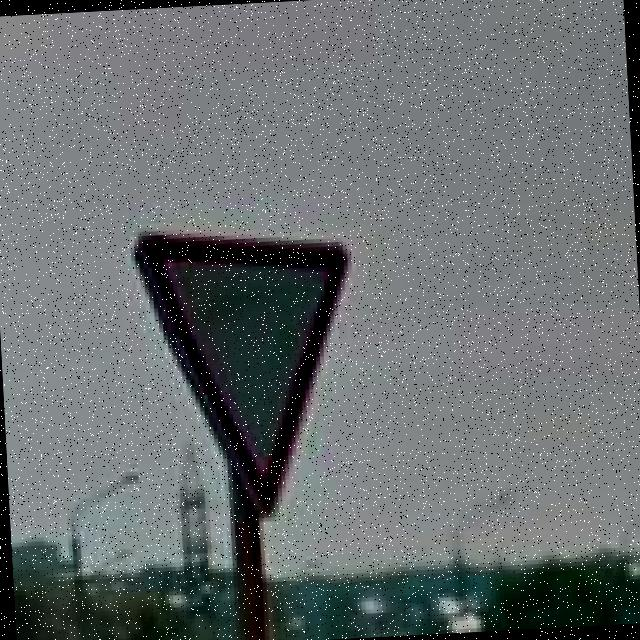Ustap pierwszenstwa: (134, 222, 356, 524)
